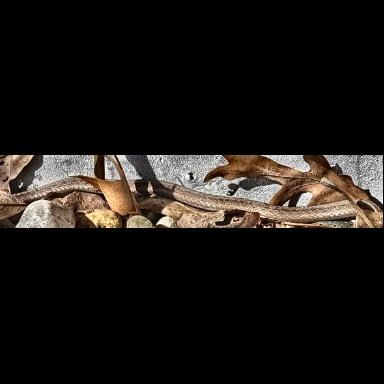snake: (6, 166, 382, 221)
